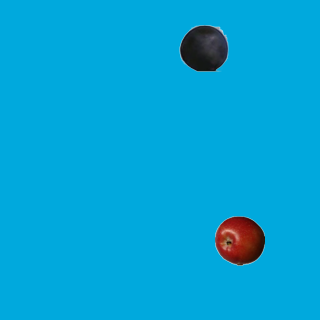Apple Braeburn: (214, 215, 264, 265)
Grape Blue: (178, 22, 228, 72)
